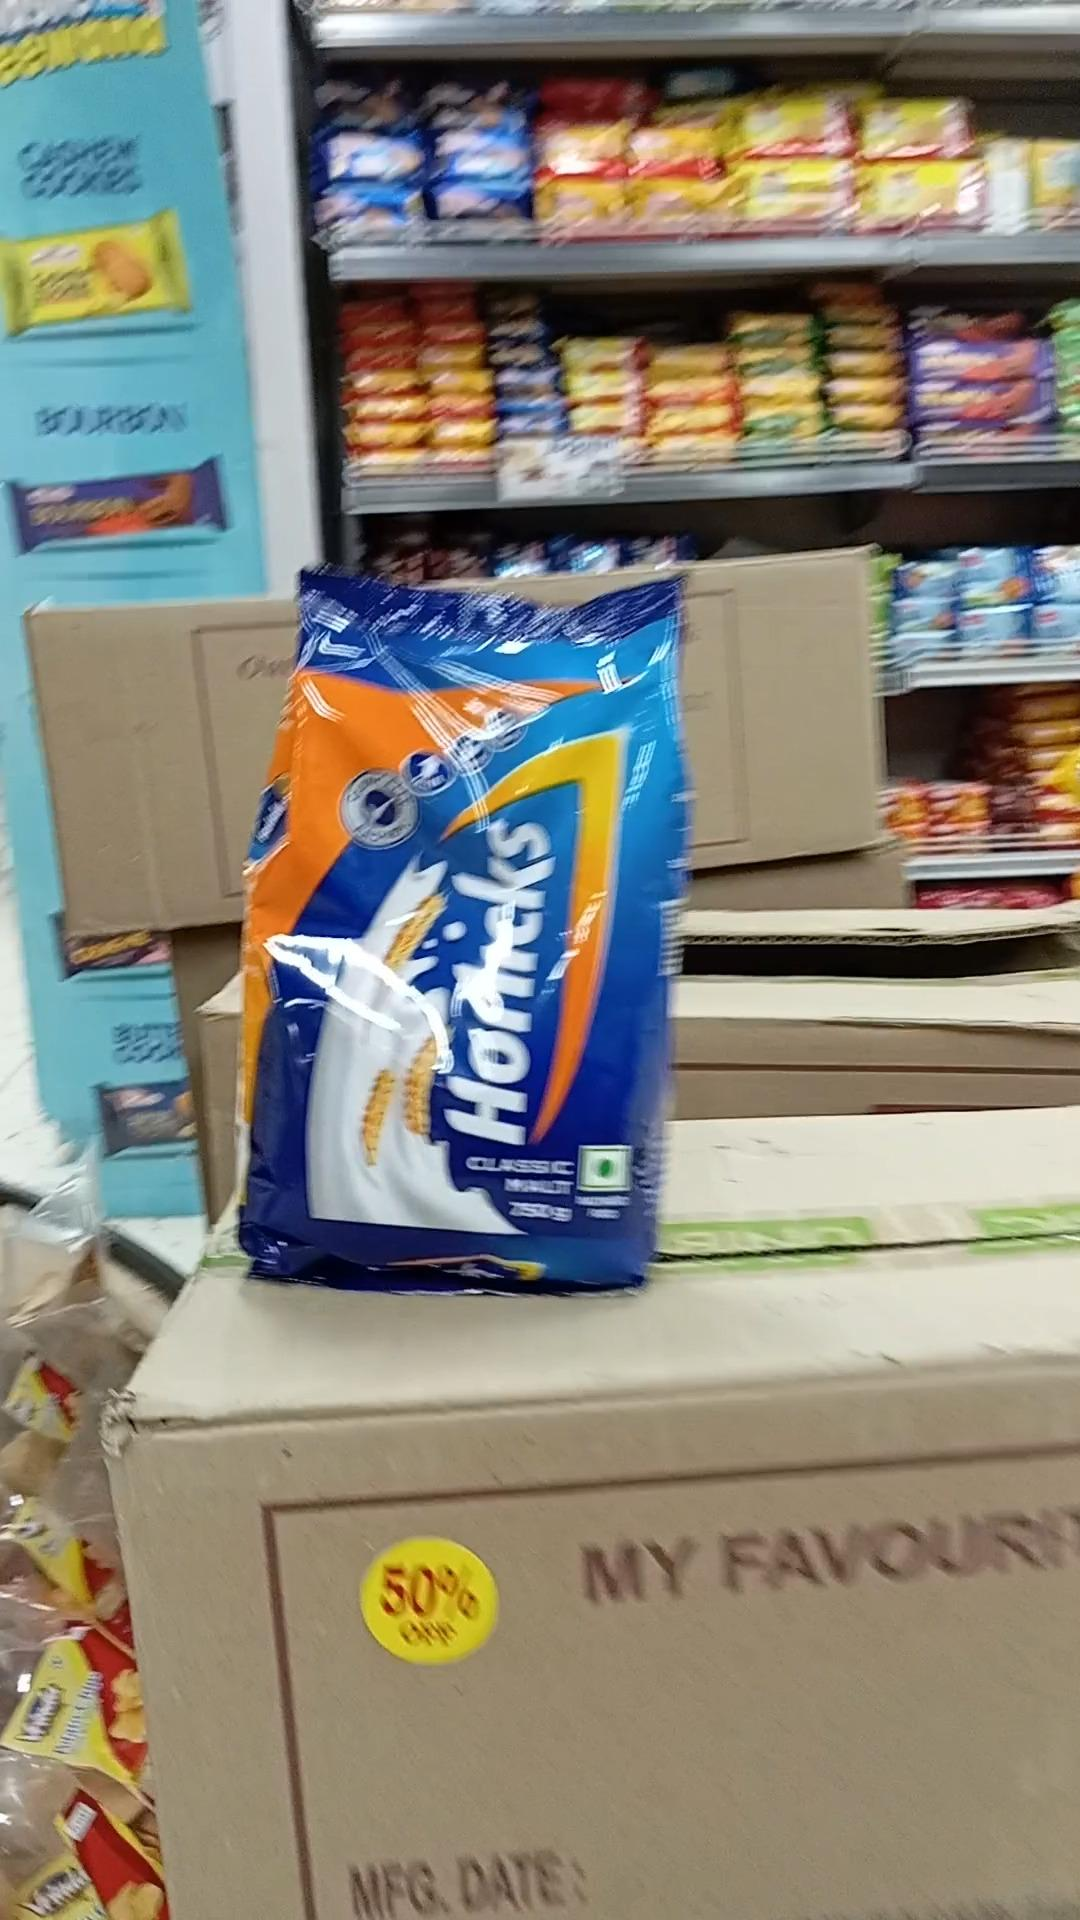HORLICK_CLASSIC_MALT_750_G_POUCH: (249, 571, 662, 1290)
